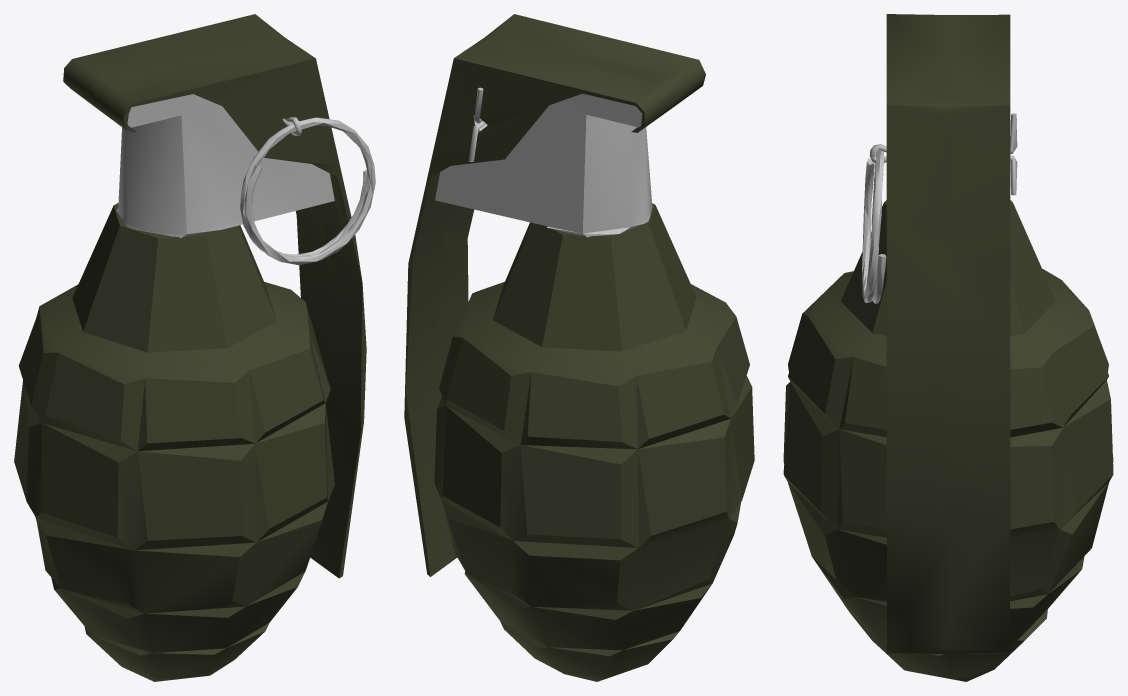
Rendered from Grenade.fbx.
3 renders of one model, left to right at view 1: azimuth 30°, elevation 25°; view 2: azimuth 150°, elevation 25°; view 3: azimuth 270°, elevation 25°, orthographic. The views are drawn at different scales.
Visible parts, largest first — view 1: Cylinder, Plane, Cube, Circle; view 2: Cylinder, Plane, Cube; view 3: Plane, Cylinder, Circle, BezierCurve.
Boxes of the visible parts, x1,y1,x2,y2 form: Cylinder: (14,203,334,681); Plane: (63,14,366,578); Cube: (116,94,334,238); Circle: (240,117,375,265); Cylinder: (434,203,754,681); Plane: (404,14,705,576); Cube: (435,93,652,237); Plane: (886,14,1010,654); Cylinder: (783,200,1113,681); Circle: (862,149,886,303); BezierCurve: (869,113,1017,195).
Size of the model in its own units: 31.79 by 60.23 by 29.36.
